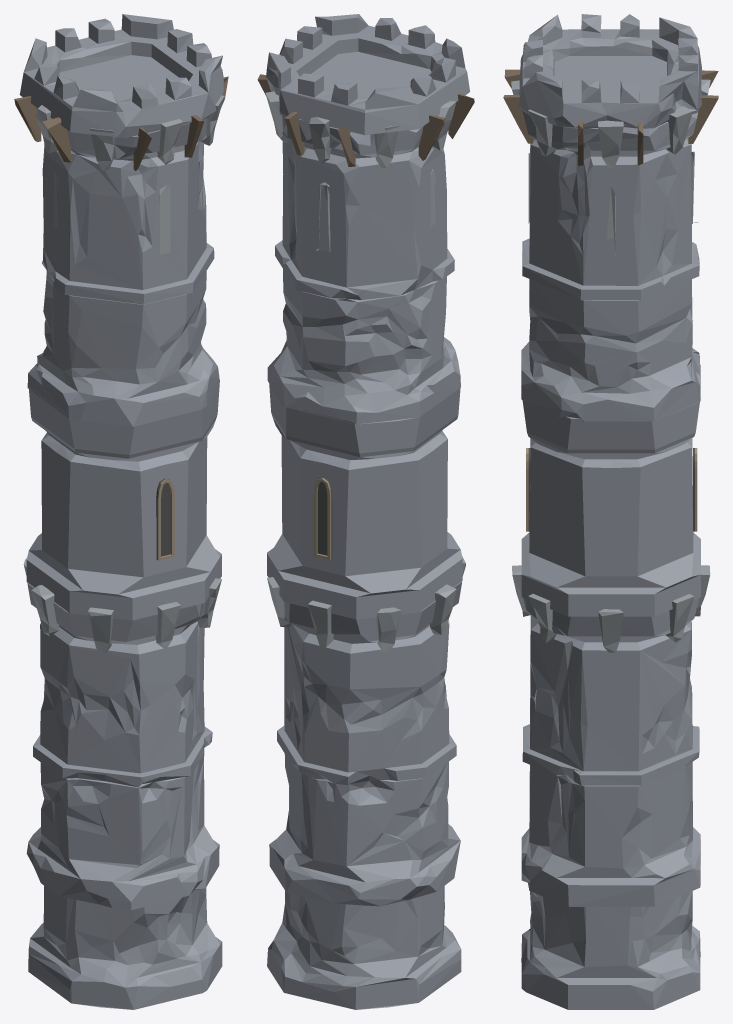
Rendered from SM_tower_template_02.fbx.
The picture shows the model from 3 angles, left to right: view 1: azimuth 30°, elevation 25°; view 2: azimuth 150°, elevation 25°; view 3: azimuth 270°, elevation 25°; orthographic projection.
Visible parts, largest first — view 1: tower_template_02; view 2: tower_template_02; view 3: tower_template_02.
Part boxes in pixels (x1,y1,x2,y2): tower_template_02: [14, 14, 228, 1009]; tower_template_02: [257, 14, 474, 1009]; tower_template_02: [503, 14, 718, 1009].
Size of the model in its own units: 303 by 1420 by 300.
